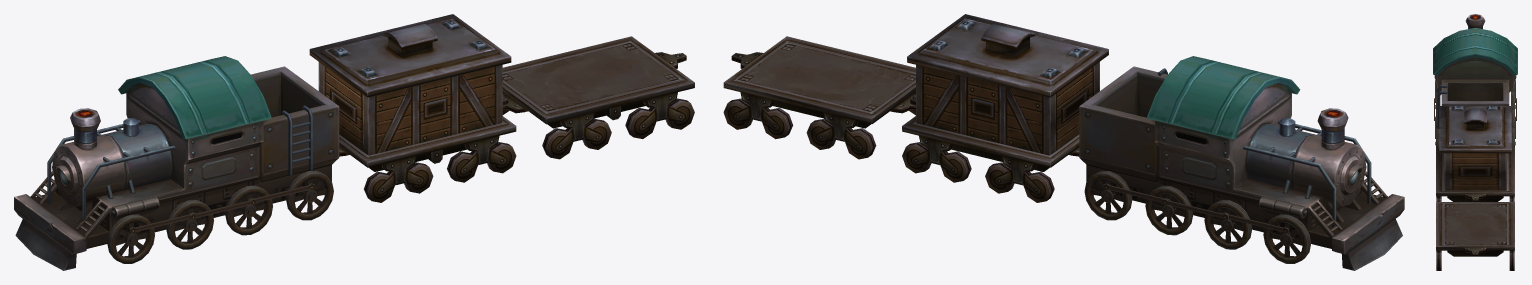
The model's file is train_01.fbx.
The picture shows the model from 3 angles, left to right: view 1: azimuth 30°, elevation 25°; view 2: azimuth 150°, elevation 25°; view 3: azimuth 270°, elevation 25°; orthographic projection. The views are drawn at different scales.
Visible parts, largest first — view 1: train_01; view 2: train_01; view 3: train_01.
Part boxes in pixels (x1,y1,x2,y2): train_01: (14,14,694,270); train_01: (723,14,1404,270); train_01: (1433,14,1517,270).
Bounding box in the file's own units: 2629 × 566 × 475.
Materials: 1 (1 with a texture image).
